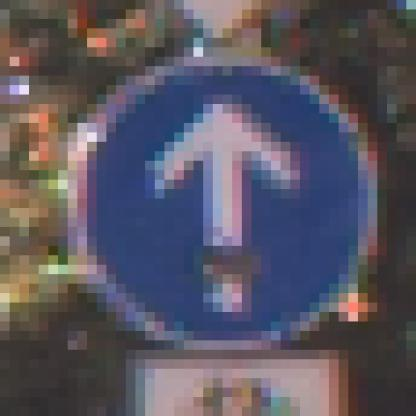AheadOnly: (59, 49, 369, 361)
